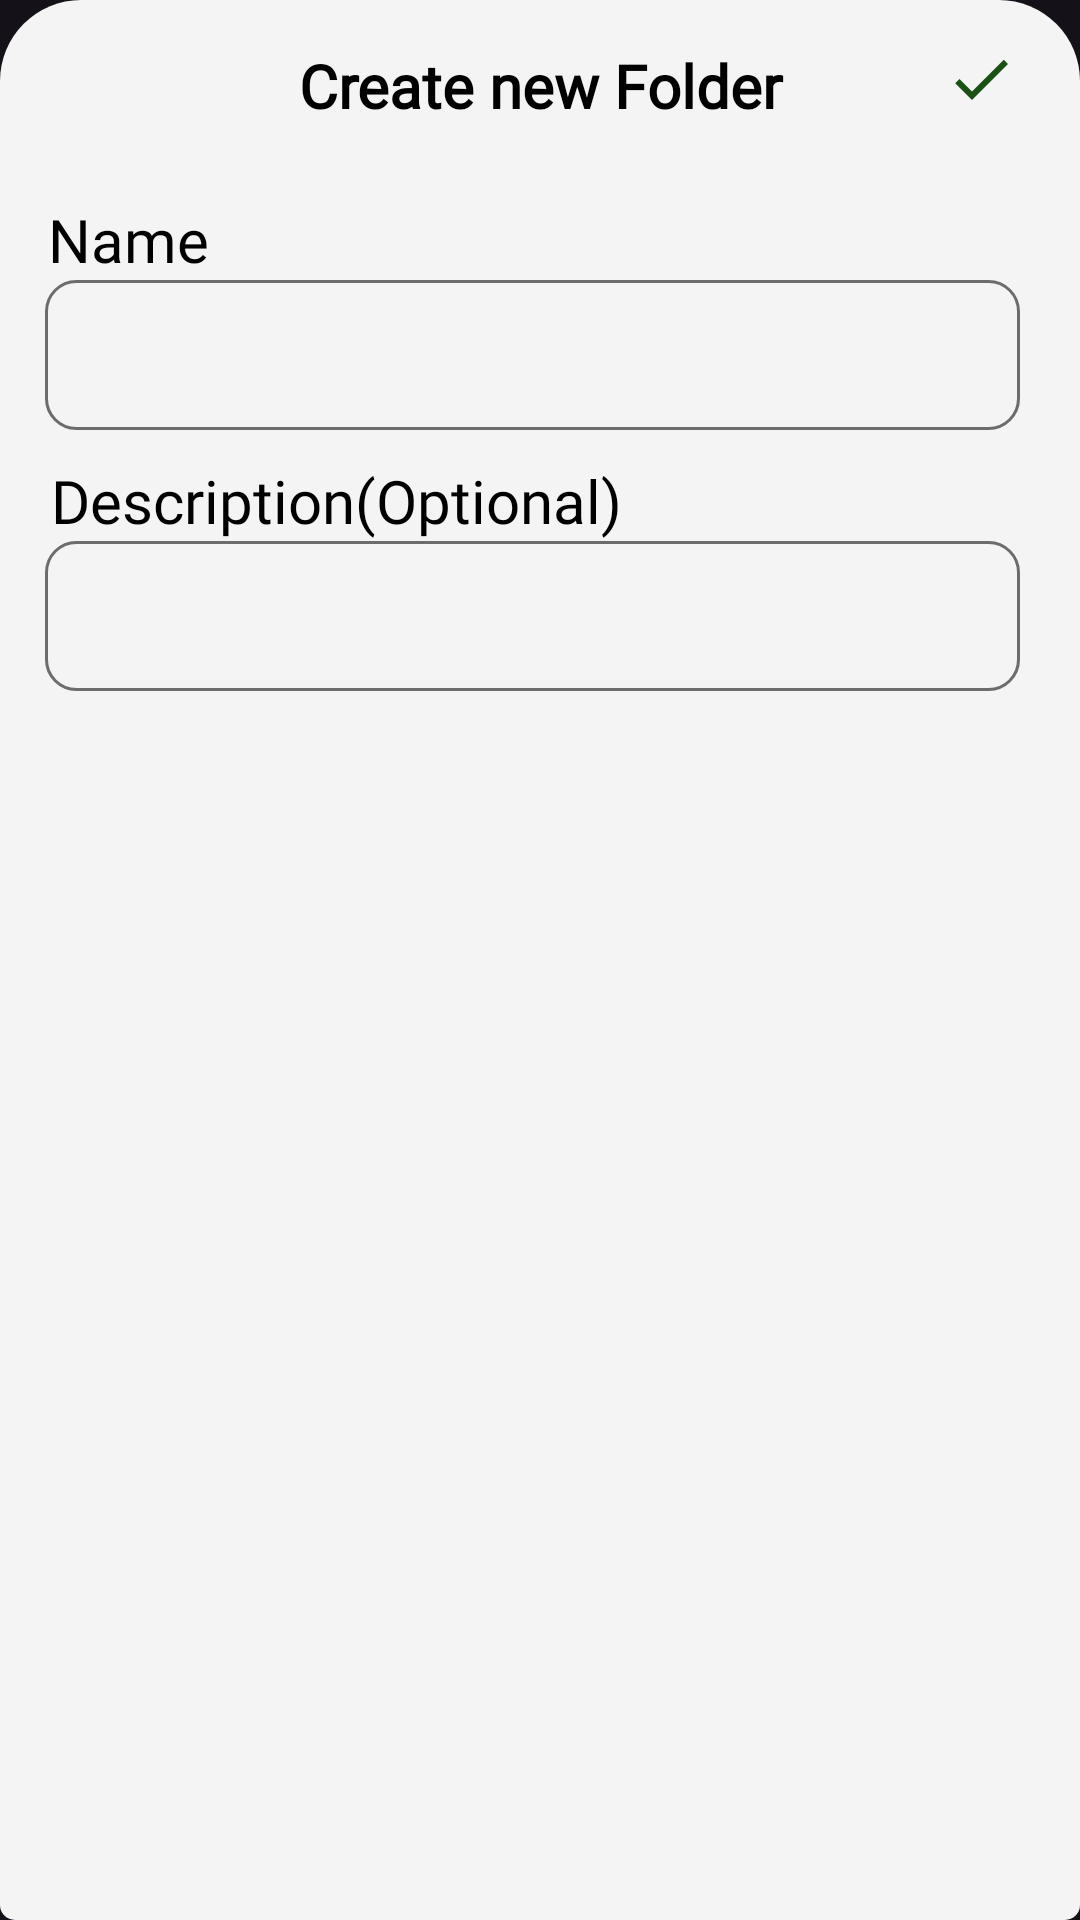

Named icons in this screenshot (1080px x 1920px) and their centers, [x,y]:
done: [981,80]
